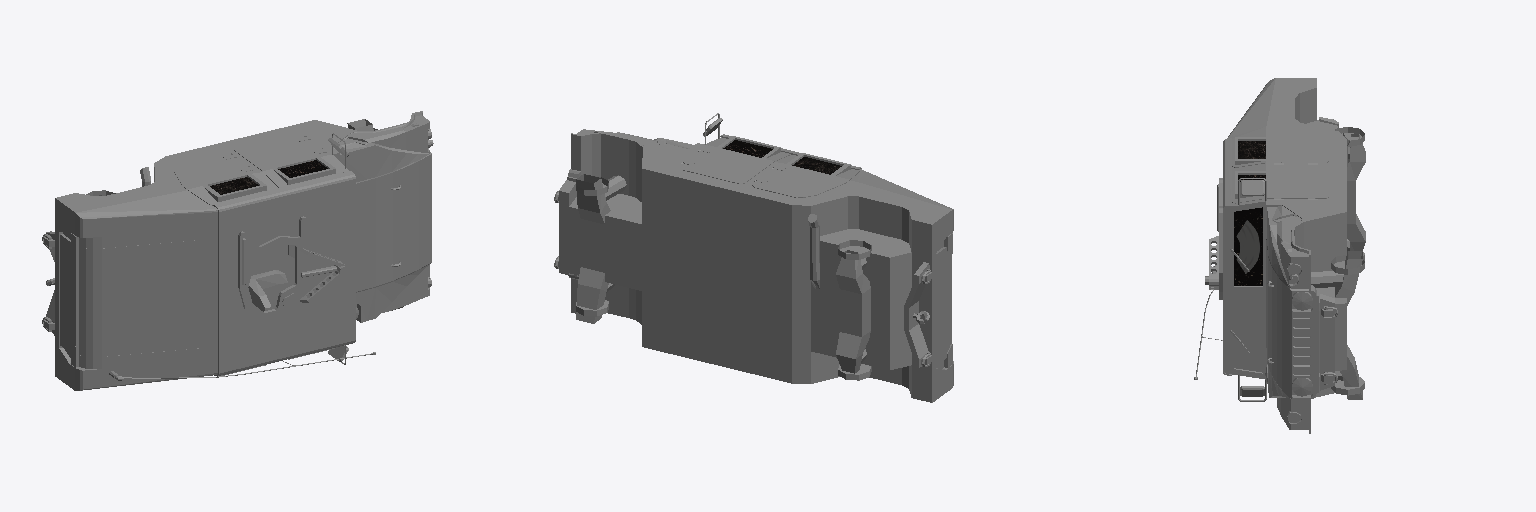
3 views of the same model, side by side, from view 1: azimuth 30°, elevation 25°; view 2: azimuth 150°, elevation 25°; view 3: azimuth 270°, elevation 25° (orthographic).
Bounding box in the file's own units: 3.99 × 2.29 × 1.6.
Materials: 3 (1 with a texture image).